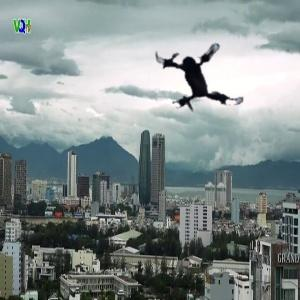drone: (147, 17, 260, 130)
